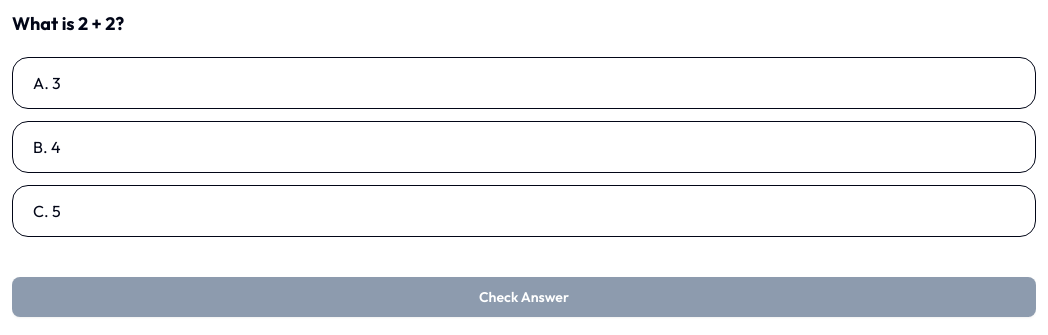
QuizInlineViewer — custom feedback › shows custom correct reinforcement
What coordinates should you click on to do the following:
click the button "B. 4"
I would click on:
 (38, 147)
Its box is [12, 121, 1036, 173].
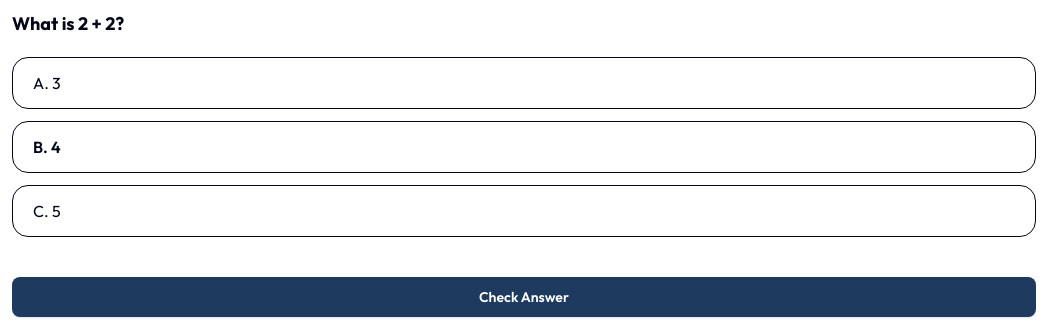
What coordinates should you click on to do the following:
click the button "Check Answer"
I would click on:
 (524, 297)
Its box is [12, 277, 1036, 317].
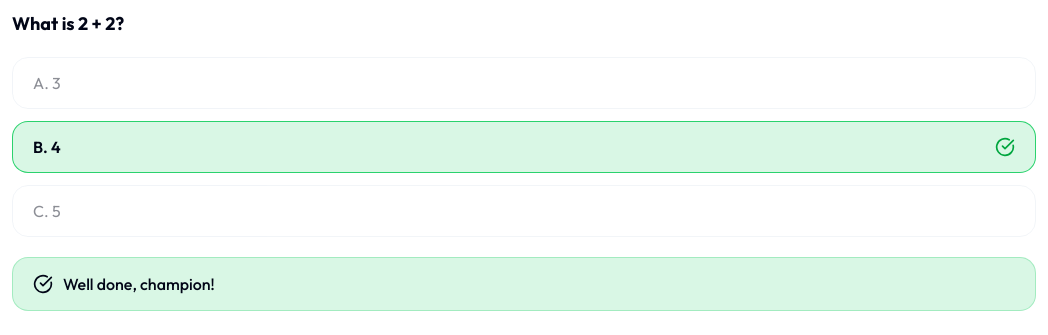
Expected: the text "Well done, champion!" is shown, [12, 257, 1036, 311]
